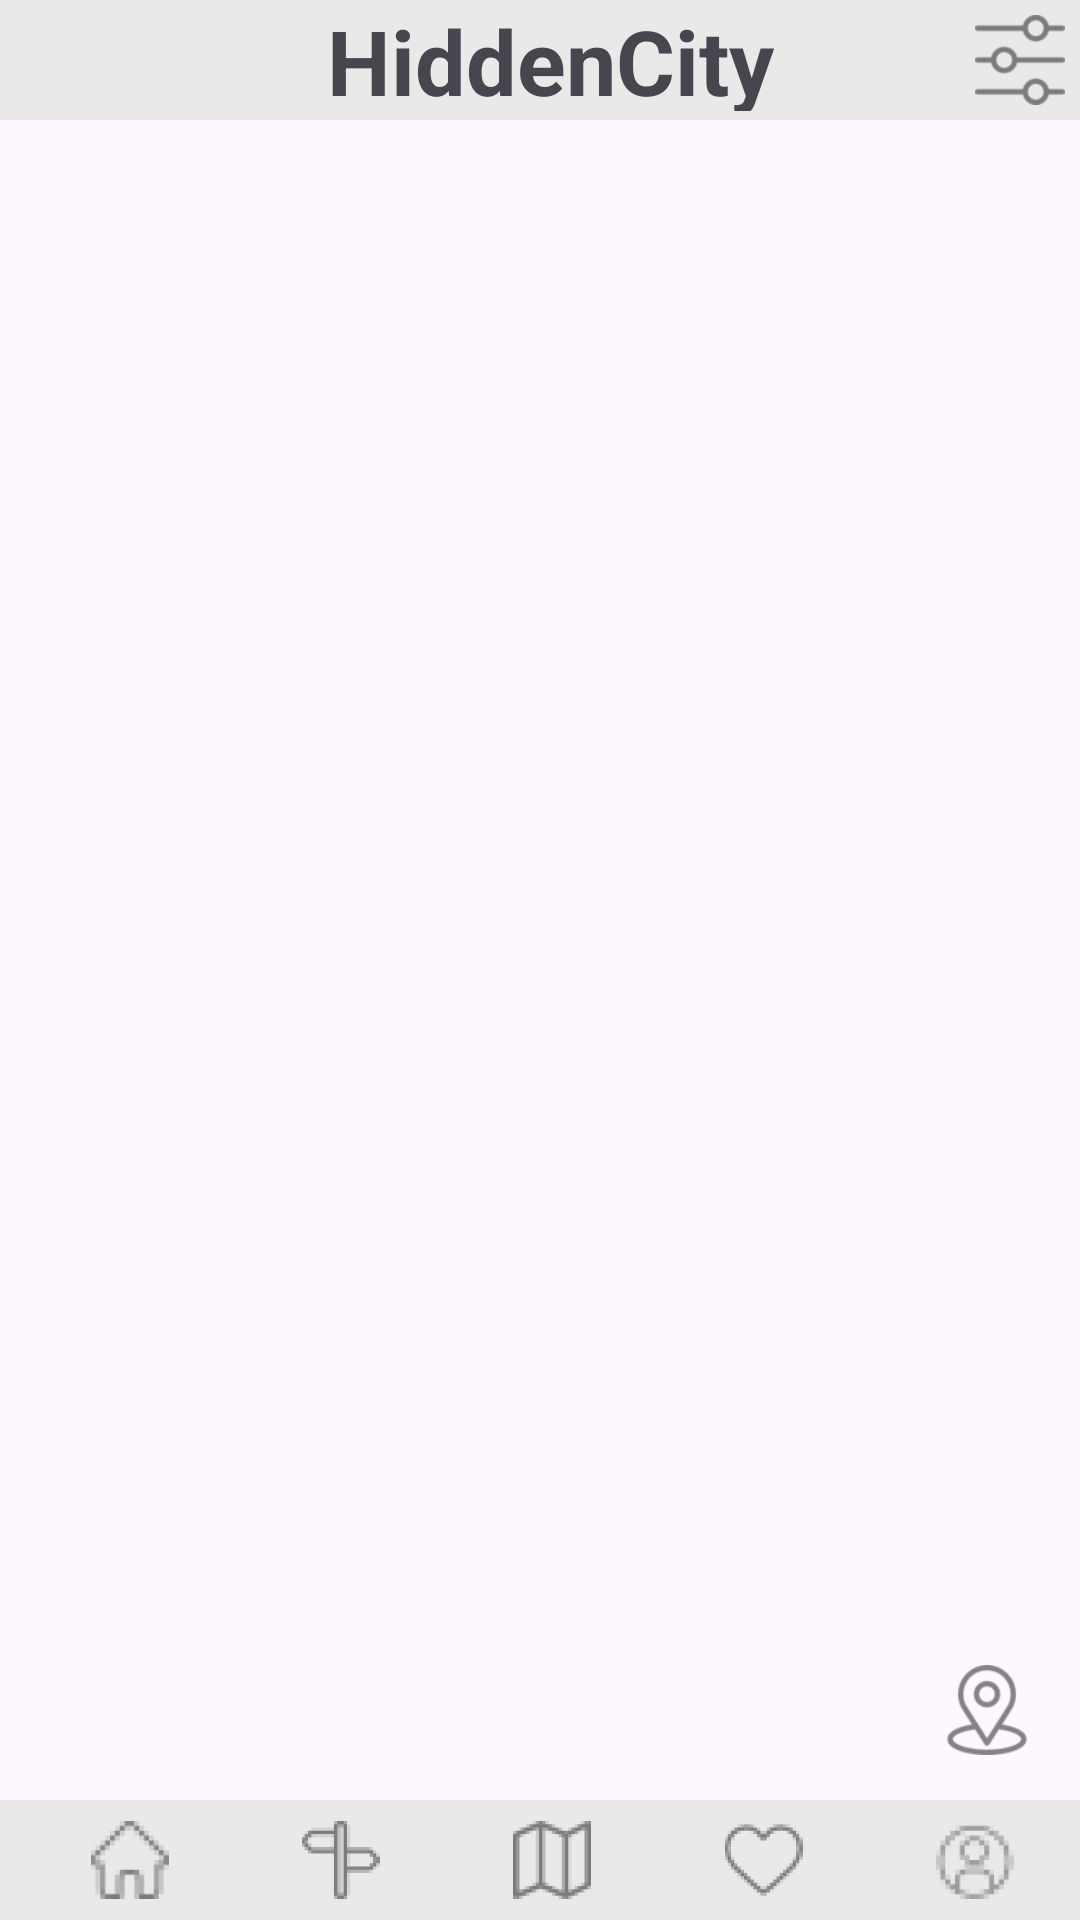

Icons on this 1080px×1920px Android screen, each with the point to tap as [x,y]:
casa: [130,1860]
conta: [975,1862]
definicoes: [1020,60]
favoritos: [764,1860]
guia: [341,1860]
map: [552,1860]
novopi: [987,1710]
